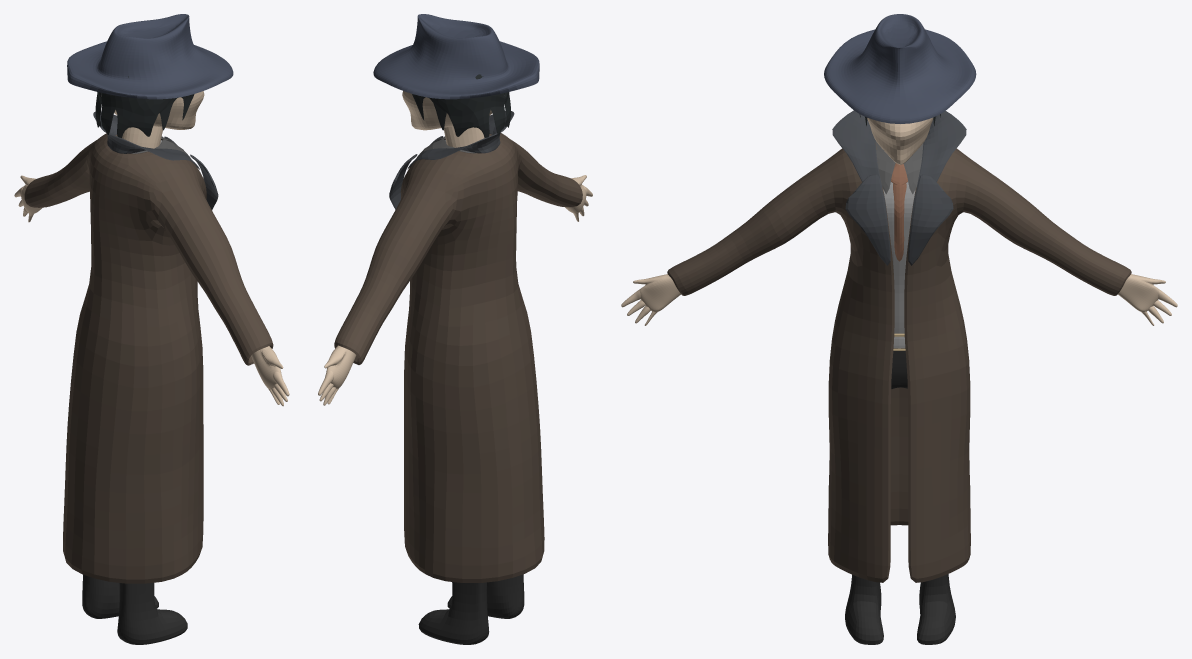
File: ReporterBodyInprogres.fbx
3 renders of one model, left to right at view 1: azimuth 30°, elevation 25°; view 2: azimuth 150°, elevation 25°; view 3: azimuth 270°, elevation 25°, orthographic.
Parts seen in each view (by area): view 1: Plane.002, Circle.001, Cube.003, Plane.007, Cube.004, Plane.004, Cube, Cylinder, Plane.003; view 2: Plane.002, Circle.001, Cube.003, Plane.007, Cube.004, Plane.004, Cube, Cylinder, Plane.003; view 3: Plane.002, Circle.001, Cube.003, Plane.003, Plane.004, Cube.004, Cube.001, Cube, Plane.001, Plane.005.
Boxes of the visible parts, box(x1,y1,x2,y2) form: Plane.002: box(24, 133, 273, 583); Circle.001: box(67, 14, 233, 99); Cube.003: box(82, 574, 187, 644); Plane.007: box(95, 76, 194, 137); Cube.004: box(14, 175, 289, 406); Plane.004: box(93, 111, 199, 169); Cube: box(114, 91, 204, 129); Cylinder: box(122, 126, 162, 148); Plane.003: box(164, 136, 218, 209); Plane.002: box(334, 133, 582, 582); Circle.001: box(373, 14, 539, 99); Cube.003: box(418, 574, 524, 644); Plane.007: box(412, 74, 510, 137); Cube.004: box(318, 175, 592, 405); Plane.004: box(407, 111, 514, 169); Cube: box(402, 91, 492, 130); Cylinder: box(444, 126, 484, 147); Plane.003: box(389, 136, 443, 209); Plane.002: box(667, 143, 1131, 582); Circle.001: box(824, 14, 976, 123); Cube.003: box(845, 351, 955, 644); Plane.003: box(845, 174, 953, 265); Plane.004: box(832, 110, 966, 186); Cube.004: box(621, 274, 1177, 325); Cube.001: box(883, 182, 915, 333); Cube: box(867, 117, 933, 164); Plane.001: box(875, 141, 923, 194); Plane.005: box(893, 183, 906, 261).
Size of the model in its own units: 56.54 by 207 by 171.
